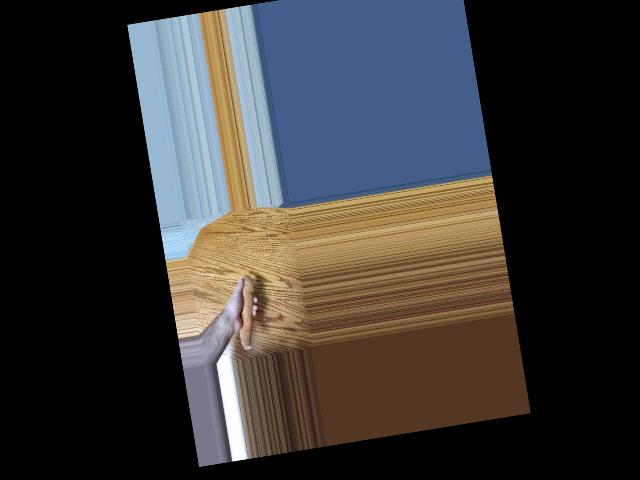sweet_potato: (227, 274, 265, 354)
